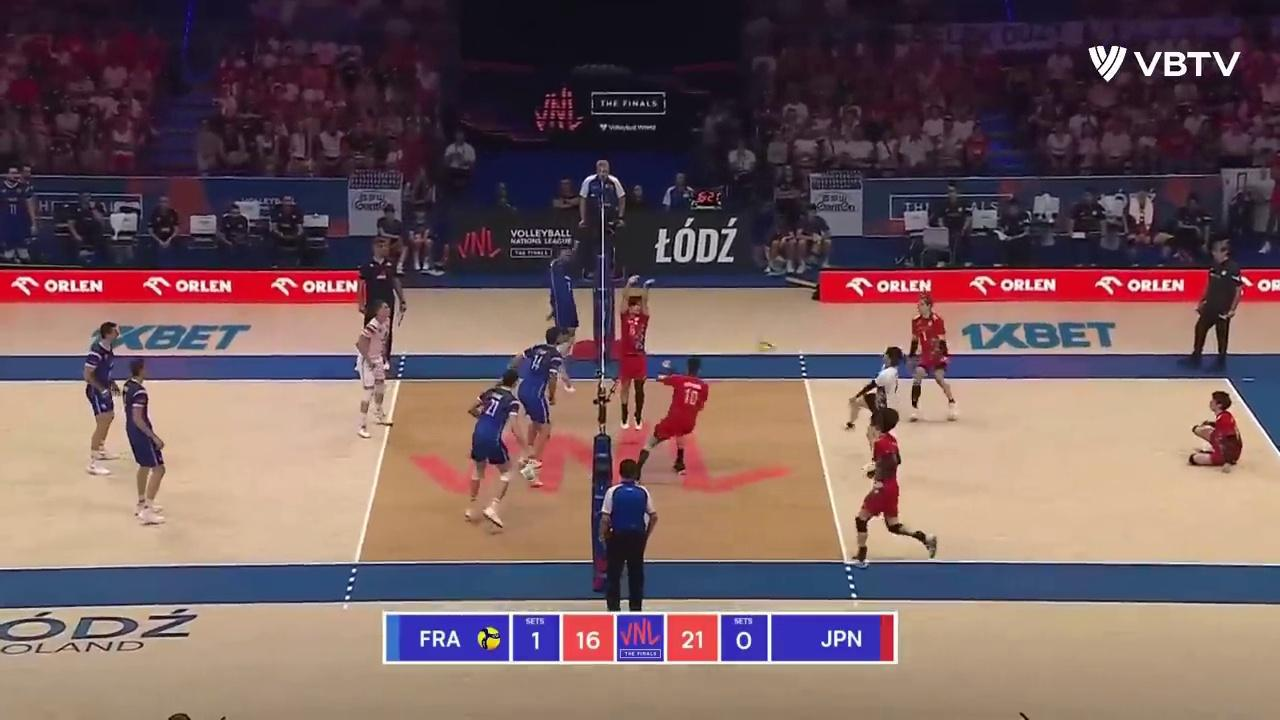ball: (758, 340, 778, 352)
